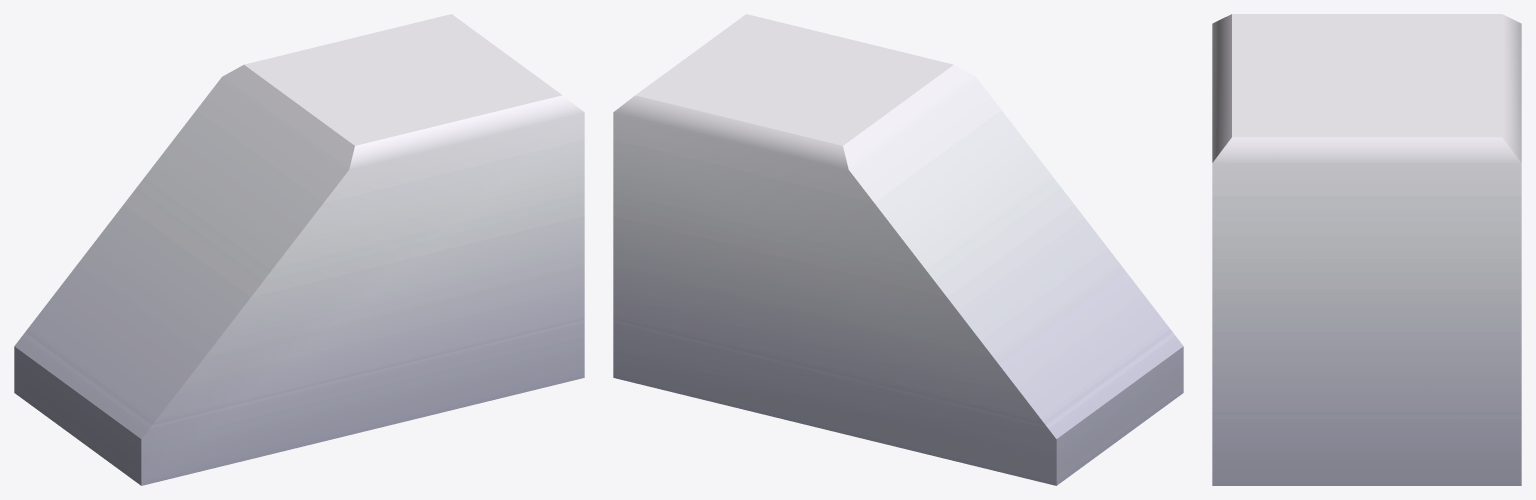
File: none-hq-brick-slope-1x2.glb
3 renders of one model, left to right at view 1: azimuth 30°, elevation 25°; view 2: azimuth 150°, elevation 25°; view 3: azimuth 270°, elevation 25°, orthographic. The views are drawn at different scales.
Parts seen in each view (by area): view 1: none-hq-brick-slope-1x2; view 2: none-hq-brick-slope-1x2; view 3: none-hq-brick-slope-1x2.
Part boxes in pixels (box(x1,y1,x2,y2)): none-hq-brick-slope-1x2: box(14, 14, 584, 485); none-hq-brick-slope-1x2: box(613, 14, 1183, 485); none-hq-brick-slope-1x2: box(1212, 14, 1521, 485).
Bounding box in the file's own units: 0.159 × 0.096 × 0.079.
1 material, 1 textured.
